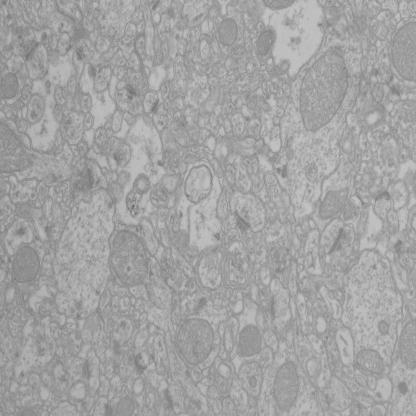mitochondria: (299, 47, 349, 133), (108, 229, 150, 289), (175, 316, 215, 367), (0, 122, 35, 174), (389, 20, 416, 85), (271, 360, 301, 413), (10, 243, 41, 284), (318, 185, 350, 220), (398, 316, 416, 372), (237, 323, 263, 359), (355, 348, 386, 377), (218, 16, 240, 47), (0, 71, 20, 100), (256, 29, 275, 56), (259, 0, 297, 12), (116, 396, 136, 416), (247, 375, 258, 390)
